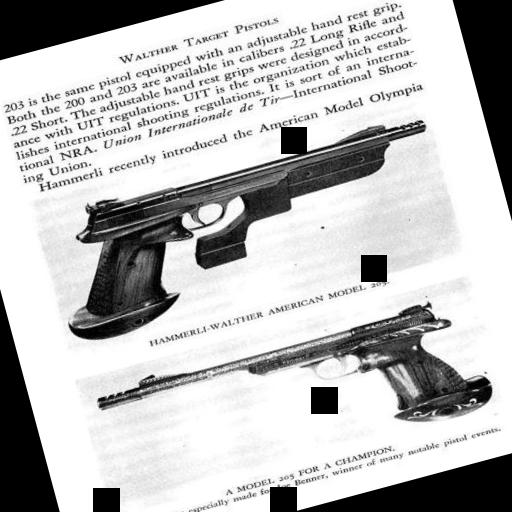Handgun: (36, 110, 460, 346), (82, 283, 500, 510)
